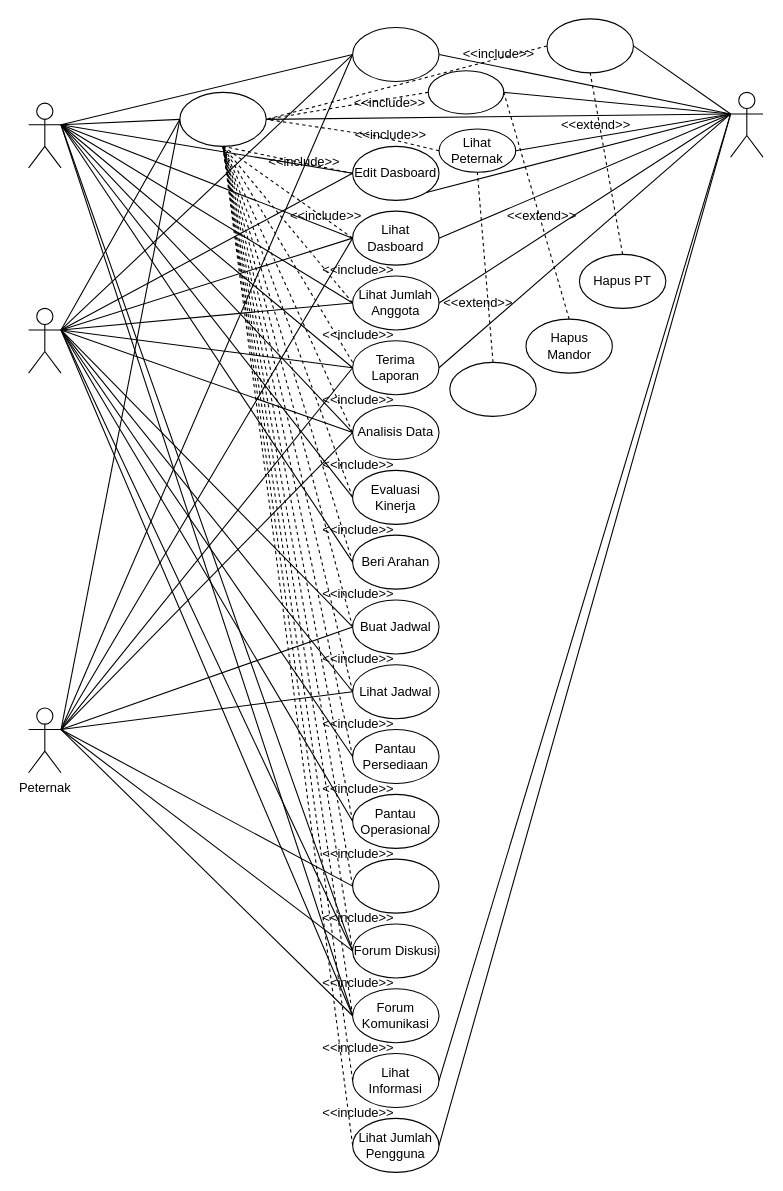
This 783x1191 diagram has some shape labels left out. The centre of each missing label's shape, as x and y in pixels:
"Admin" belongs at (746,124).
"Buat Akun" belongs at (395,54).
"Hapus Peternak" belongs at (492,388).
"Isi Persediaan" belongs at (395,885).
"Lihat Mandor" belongs at (465,92).
"Lihat PT" belongs at (589,45).
"Login" belongs at (222,118).
"Mandor" belongs at (44,340).
"PT" belongs at (44,135).
